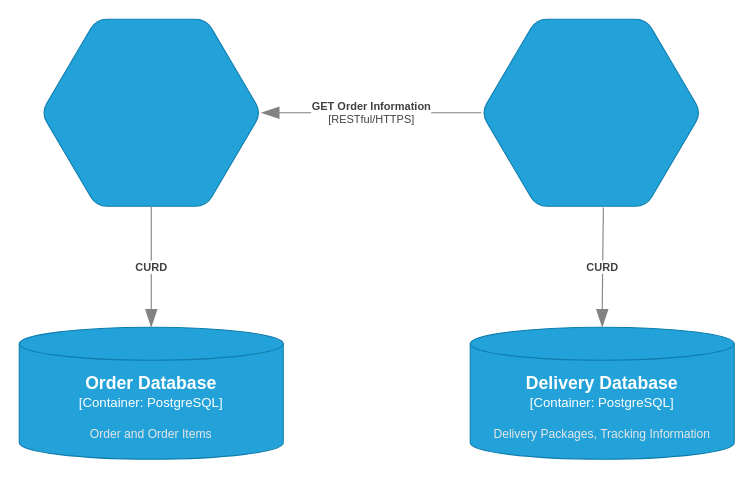
Some shapes in this 754 by 479 pixel diagram are drawn without their labels. Here are the shapes that lost their labels. From the top down, the centre of each, then its label:
At point 150,112: "Order Service [Container: Go, Echo] Order Management".
At point 590,112: "Delivery Service [Container: Go, Echo] Delivery Management".
